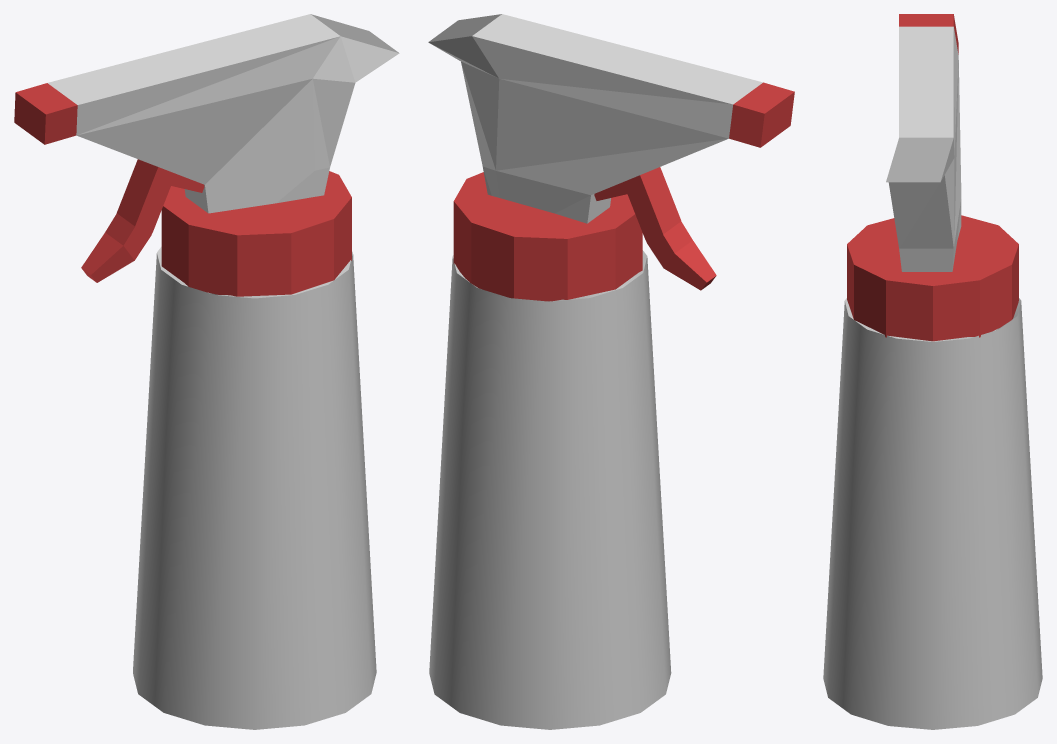
File: spray bottle.fbx
The picture shows the model from 3 angles, left to right: view 1: azimuth 30°, elevation 25°; view 2: azimuth 150°, elevation 25°; view 3: azimuth 270°, elevation 25°; orthographic projection. The views are drawn at different scales.
Visible parts, largest first — view 1: pCylinder1, pCube1, pCylinder2, pCube2; view 2: pCylinder1, pCube1, pCylinder2, pCube2; view 3: pCylinder1, pCube1, pCylinder2.
Boxes of the visible parts, bbox=[...] form: pCylinder1: bbox=[133, 246, 376, 729]; pCube1: bbox=[14, 14, 399, 213]; pCylinder2: bbox=[161, 171, 351, 296]; pCube2: bbox=[81, 159, 204, 282]; pCylinder1: bbox=[429, 250, 671, 729]; pCube1: bbox=[428, 14, 794, 223]; pCylinder2: bbox=[453, 172, 642, 301]; pCube2: bbox=[594, 167, 716, 290]; pCylinder1: bbox=[823, 298, 1042, 729]; pCube1: bbox=[886, 14, 961, 271]; pCylinder2: bbox=[847, 215, 1018, 341].
Size of the model in its own units: 4.61 by 8.13 by 2.81.
